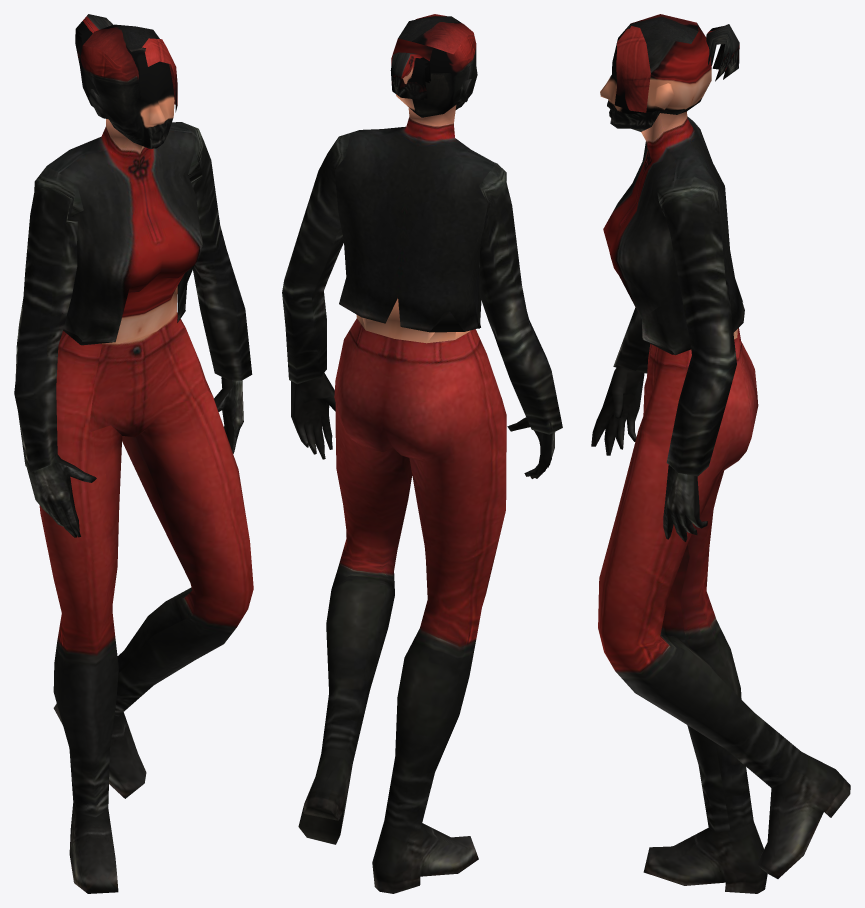
The picture shows the model from 3 angles, left to right: view 1: azimuth 30°, elevation 25°; view 2: azimuth 150°, elevation 25°; view 3: azimuth 270°, elevation 25°; orthographic projection. The views are drawn at different scales.
Visible parts, largest first — view 1: SketchUp (×6); view 2: SketchUp (×5); view 3: SketchUp (×6).
Part boxes in pixels (x1=…): SketchUp (×6): x1=14, y1=14, x2=253, y2=893; SketchUp (×5): x1=282, y1=16, x2=562, y2=893; SketchUp (×6): x1=591, y1=14, x2=850, y2=893.
Bounding box in the file's own units: 65.67 × 58.39 × 216.
2 materials, 2 textured.
